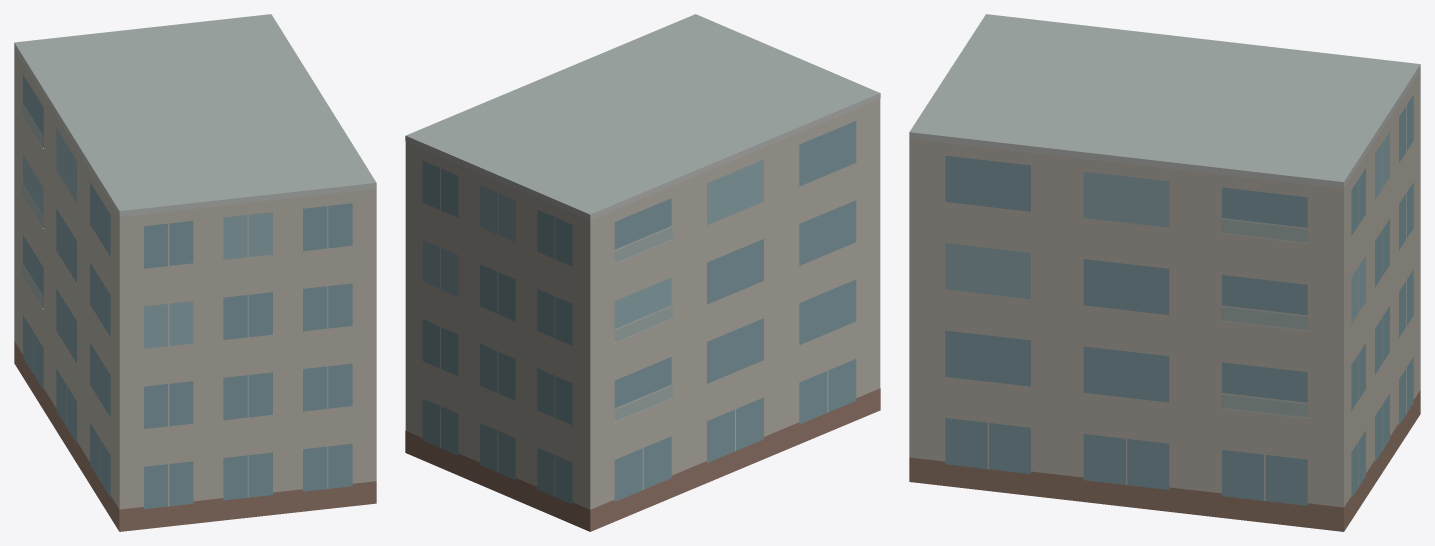
Rendered from survey-upis-32808514.glb.
The picture shows the model from 3 angles, left to right: view 1: azimuth 30°, elevation 25°; view 2: azimuth 150°, elevation 25°; view 3: azimuth 270°, elevation 25°; orthographic projection. The views are drawn at different scales.
Visible parts, largest first — view 1: survey-upis-32808514.tmp; view 2: survey-upis-32808514.tmp; view 3: survey-upis-32808514.tmp.
Boxes of the visible parts, left/top/right/bottom form: survey-upis-32808514.tmp: left=14, top=14, right=376, bottom=531; survey-upis-32808514.tmp: left=405, top=14, right=880, bottom=531; survey-upis-32808514.tmp: left=909, top=14, right=1420, bottom=531.
Bounding box in the file's own units: 13.62 × 13.2 × 17.5.
